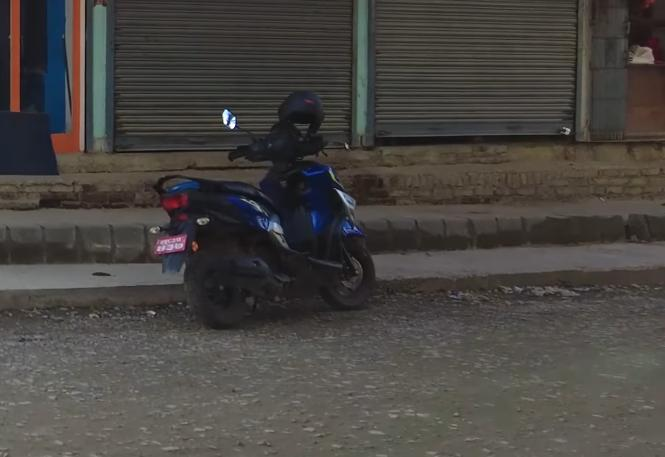scooter: (148, 131, 386, 331)
